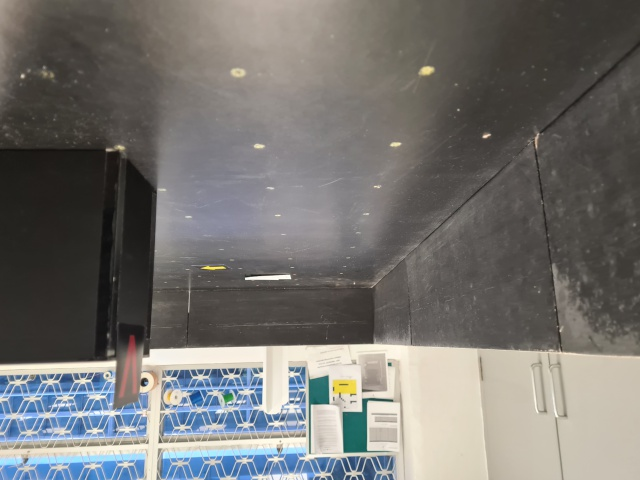alphabet_v: (114, 324, 145, 408)
